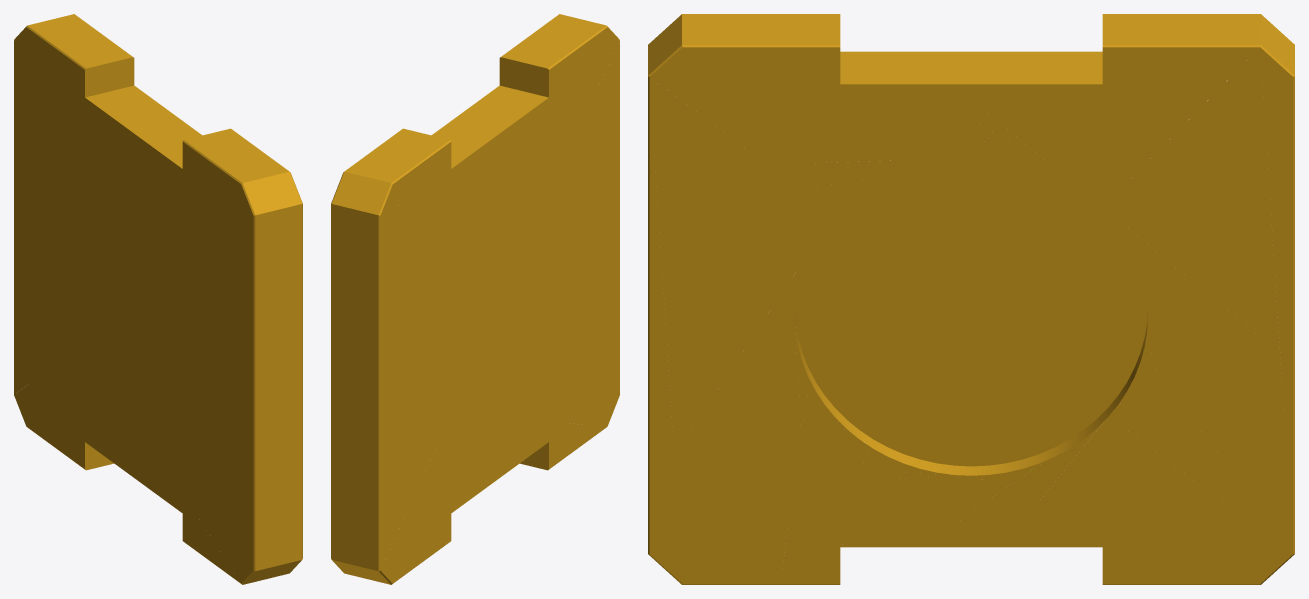
The model's file is takoz-soosan-sb121-ts-p-bottom-buffer-02.glb.
The picture shows the model from 3 angles, left to right: view 1: azimuth 30°, elevation 25°; view 2: azimuth 150°, elevation 25°; view 3: azimuth 270°, elevation 25°; orthographic projection. The views are drawn at different scales.
Visible parts, largest first — view 1: body; view 2: body; view 3: body.
Boxes of the visible parts, x1,y1,x2,y2 form: body: (14, 14, 302, 584); body: (331, 14, 619, 584); body: (648, 14, 1294, 584).
Size of the model in its own units: 0.045 by 0.35 by 0.38.
